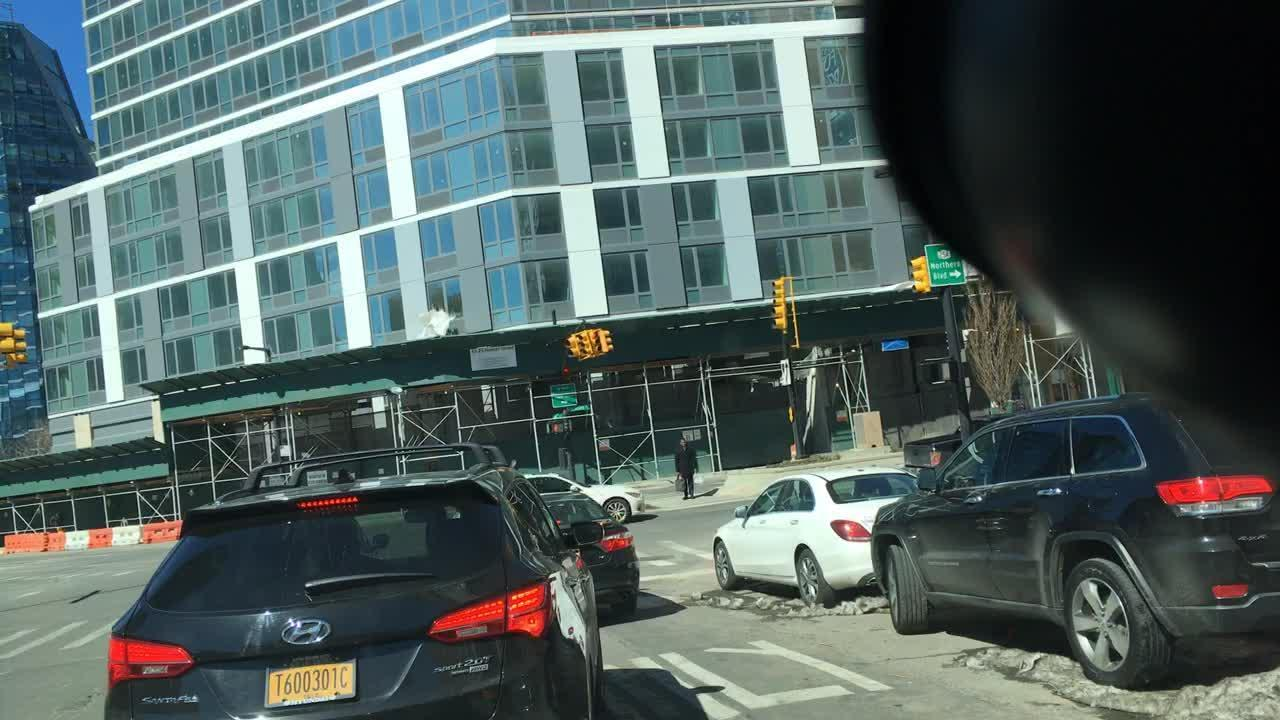Hyundai: (270, 613, 349, 660)
